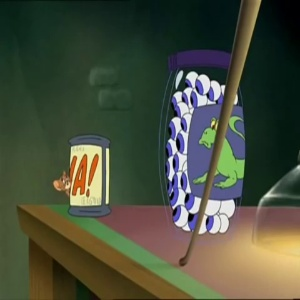Jerry: (52, 169, 70, 194)
